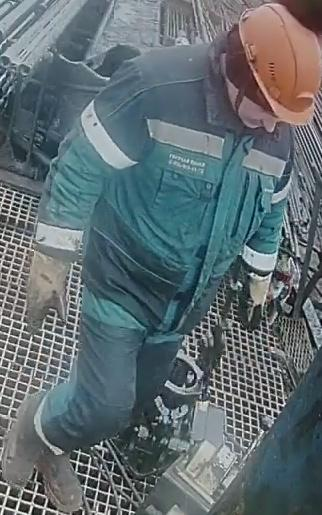gloves: (21, 227, 78, 339), (234, 257, 274, 331)
helmet: (237, 2, 321, 125)
vest: (76, 40, 292, 335)
